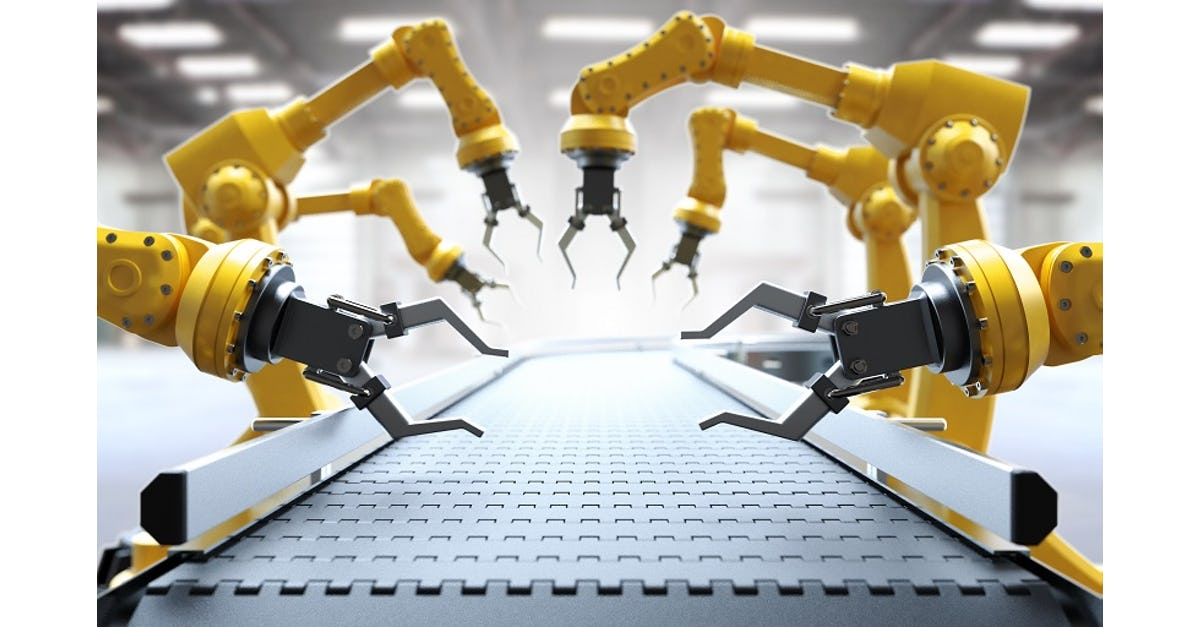robot: (557, 7, 1033, 459), (160, 17, 548, 427), (97, 224, 512, 441), (680, 238, 1104, 446), (650, 105, 919, 421), (274, 174, 512, 327)
